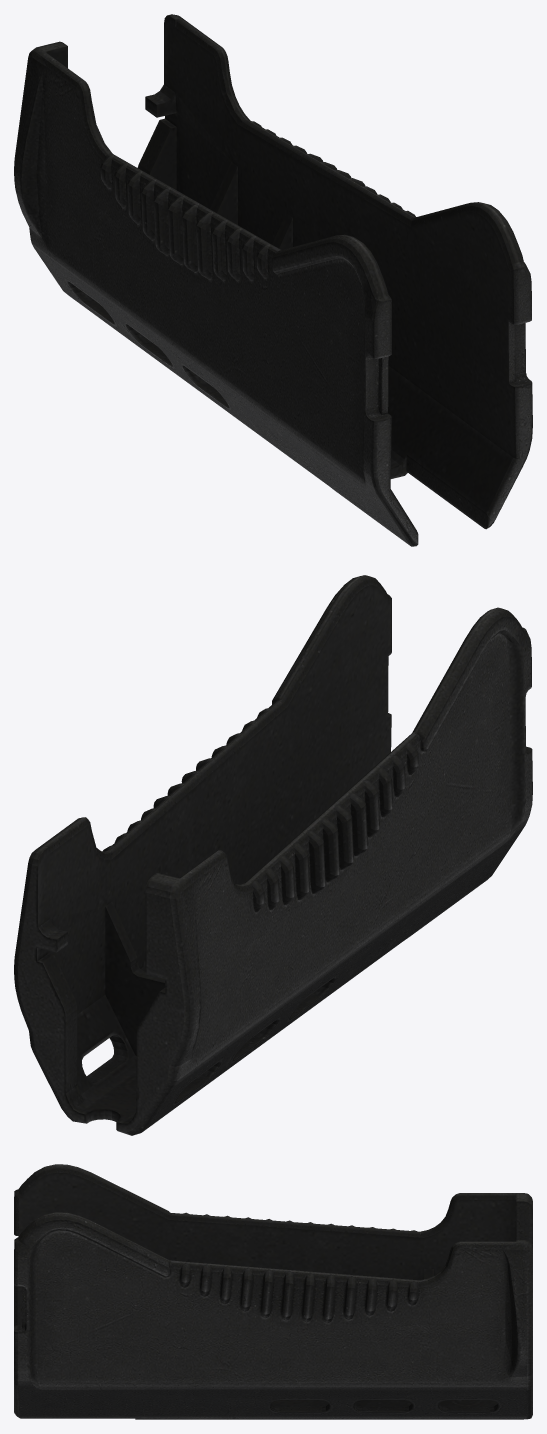
The picture shows the model from 3 angles, top to bottom: view 1: azimuth 30°, elevation 25°; view 2: azimuth 150°, elevation 25°; view 3: azimuth 270°, elevation 25°; orthographic projection. The views are drawn at different scales.
Parts seen in each view (by area): view 1: TW_65144f546ddb773afa0e35e1_PZ_Import; view 2: TW_65144f546ddb773afa0e35e1_PZ_Import; view 3: TW_65144f546ddb773afa0e35e1_PZ_Import.
Boxes of the visible parts, box(x1,y1,x2,y2) form: TW_65144f546ddb773afa0e35e1_PZ_Import: box(14, 14, 532, 546); TW_65144f546ddb773afa0e35e1_PZ_Import: box(14, 575, 532, 1135); TW_65144f546ddb773afa0e35e1_PZ_Import: box(14, 1164, 532, 1419).
Size of the model in its own units: 0.026 by 0.088 by 0.0412.
Materials: 1 (1 with a texture image).
